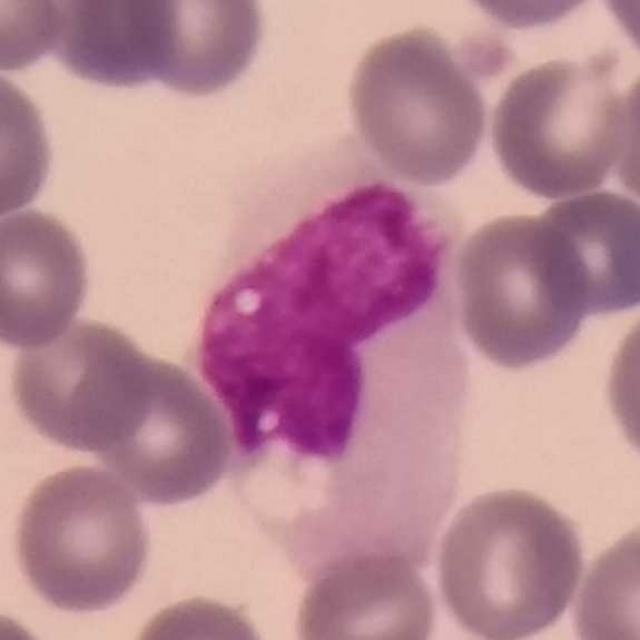mono: (190, 132, 479, 592)
